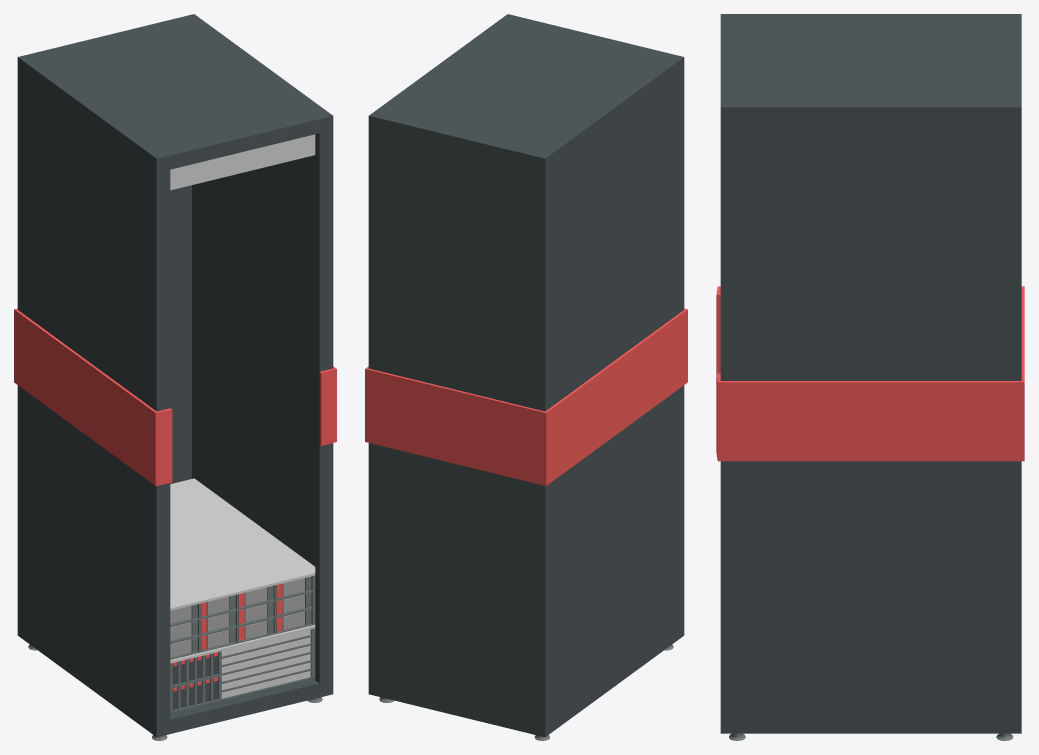
The model's file is server_lvl2.glb.
3 views of the same model, side by side, from view 1: azimuth 30°, elevation 25°; view 2: azimuth 150°, elevation 25°; view 3: azimuth 270°, elevation 25° (orthographic). The views are drawn at different scales.
Parts seen in each view (by area): view 1: feet, tray1, tray2; view 2: feet; view 3: feet.
Part boxes in pixels (<box>): feet: <box>14,14,336,740</box>; tray1: <box>170,478,315,659</box>; tray2: <box>170,625,315,712</box>; feet: <box>365,14,687,740</box>; feet: <box>716,14,1024,740</box>.
Size of the model in its own units: 0.1535 by 0.4757 by 0.2089.
Materials: 2 (1 with a texture image).
